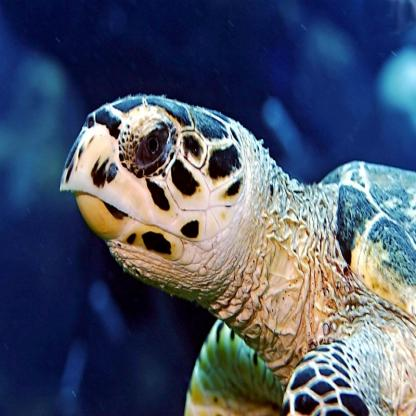turtle: (54, 82, 270, 323)
